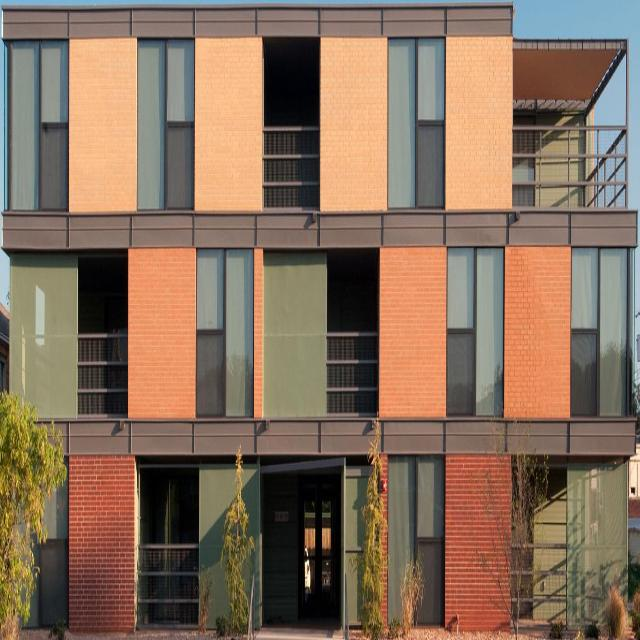door: (300, 473, 339, 627)
railing: (511, 119, 629, 217), (138, 542, 198, 623), (261, 125, 320, 206), (324, 330, 376, 416), (78, 329, 128, 416), (512, 540, 567, 616)
window: (9, 256, 76, 423), (261, 247, 325, 417), (7, 40, 68, 207), (135, 39, 193, 211), (572, 248, 632, 412), (447, 249, 505, 413), (388, 38, 444, 206), (196, 247, 252, 413), (388, 455, 444, 620), (569, 466, 624, 618), (17, 467, 68, 623), (140, 470, 200, 544)
